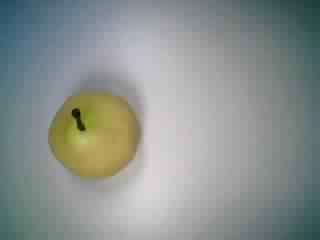pear: (34, 83, 143, 185)
